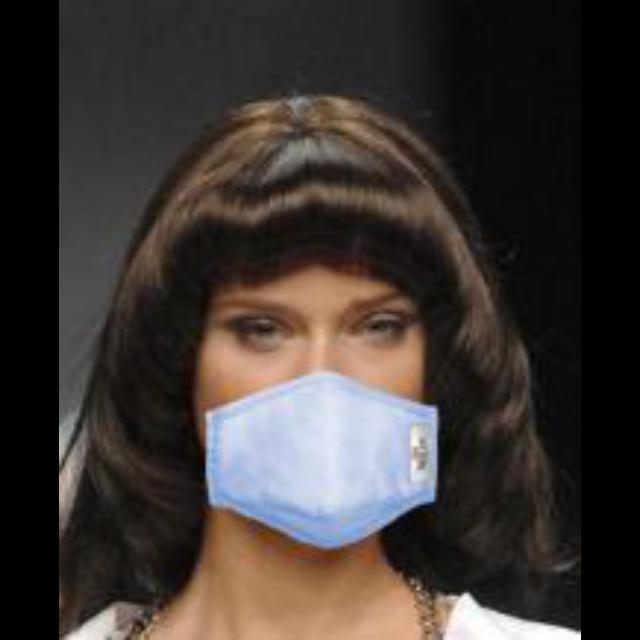suspicion: (108, 130, 494, 598)
